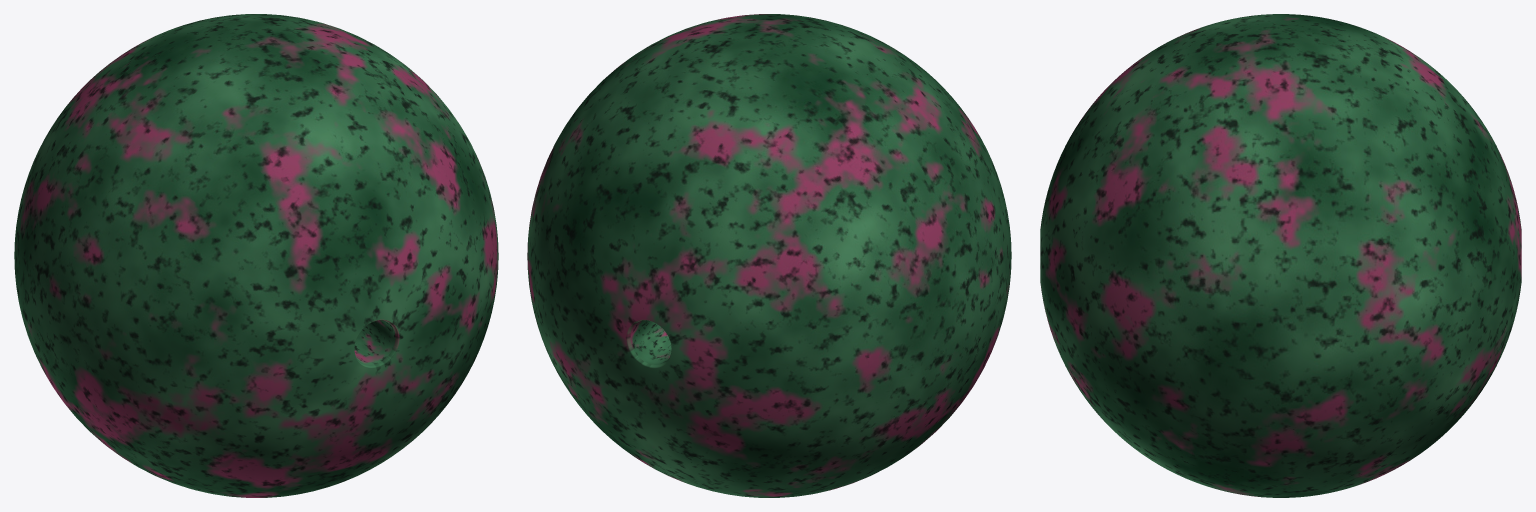
Rendered from ruby-zoisite-10mm.glb.
3 renders of one model, left to right at view 1: azimuth 30°, elevation 25°; view 2: azimuth 150°, elevation 25°; view 3: azimuth 270°, elevation 25°, orthographic.
Parts seen in each view (by area): view 1: ruby-zoisite.001; view 2: ruby-zoisite.001; view 3: ruby-zoisite.001.
Part boxes in pixels (box(x1,y1,x2,y2)): ruby-zoisite.001: box(14, 14, 498, 497); ruby-zoisite.001: box(527, 14, 1011, 497); ruby-zoisite.001: box(1040, 14, 1521, 497).
Size of the model in its own units: 0.01 by 0.01 by 0.00994.
Materials: 1 (1 with a texture image).
